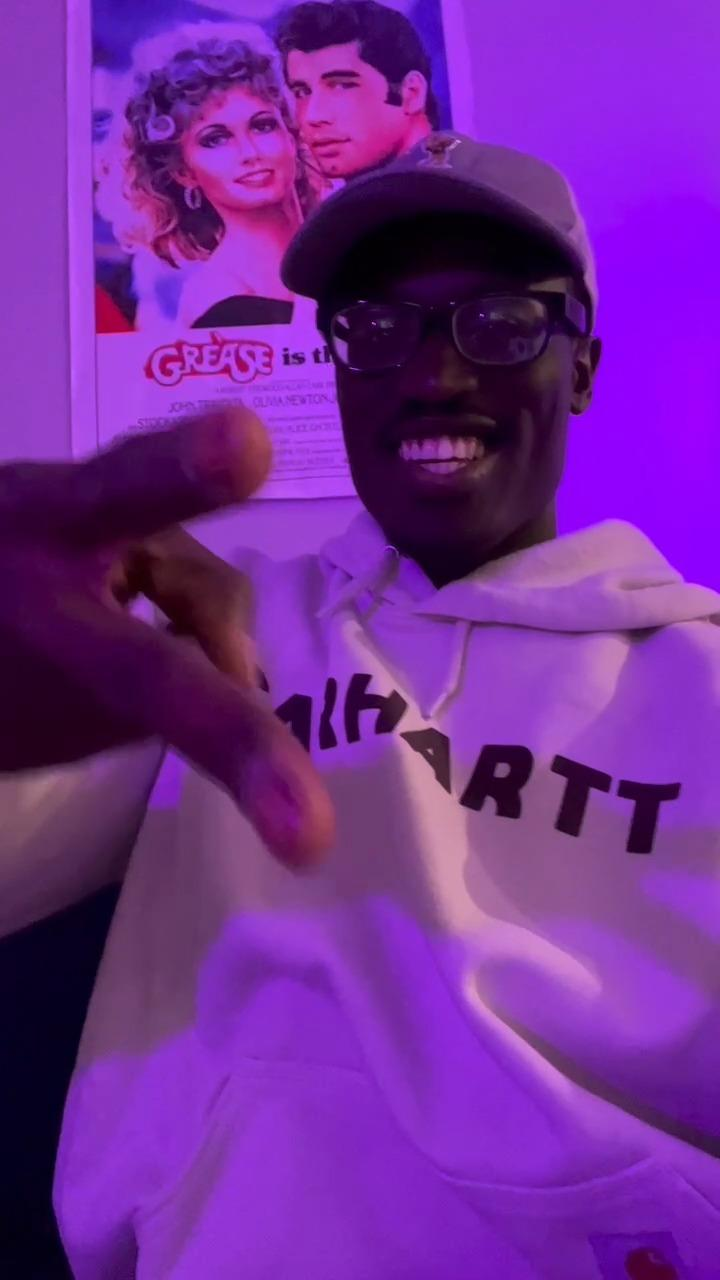Scissors: (0, 400, 337, 881)
